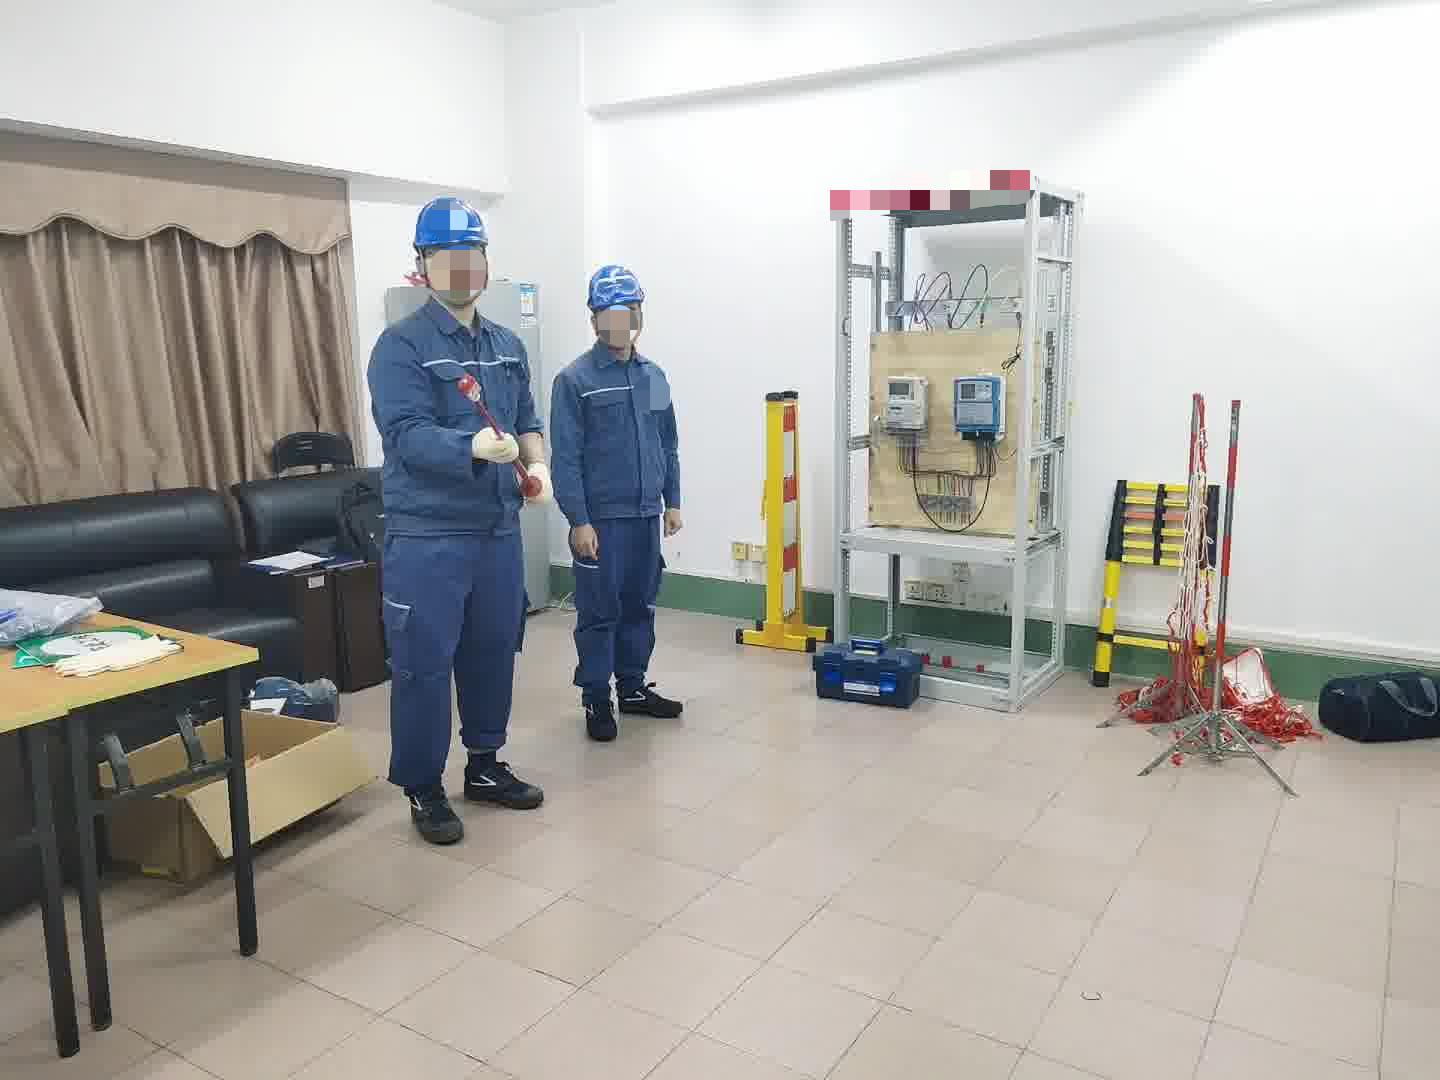halt: (414, 197, 497, 310), (587, 265, 652, 353)
